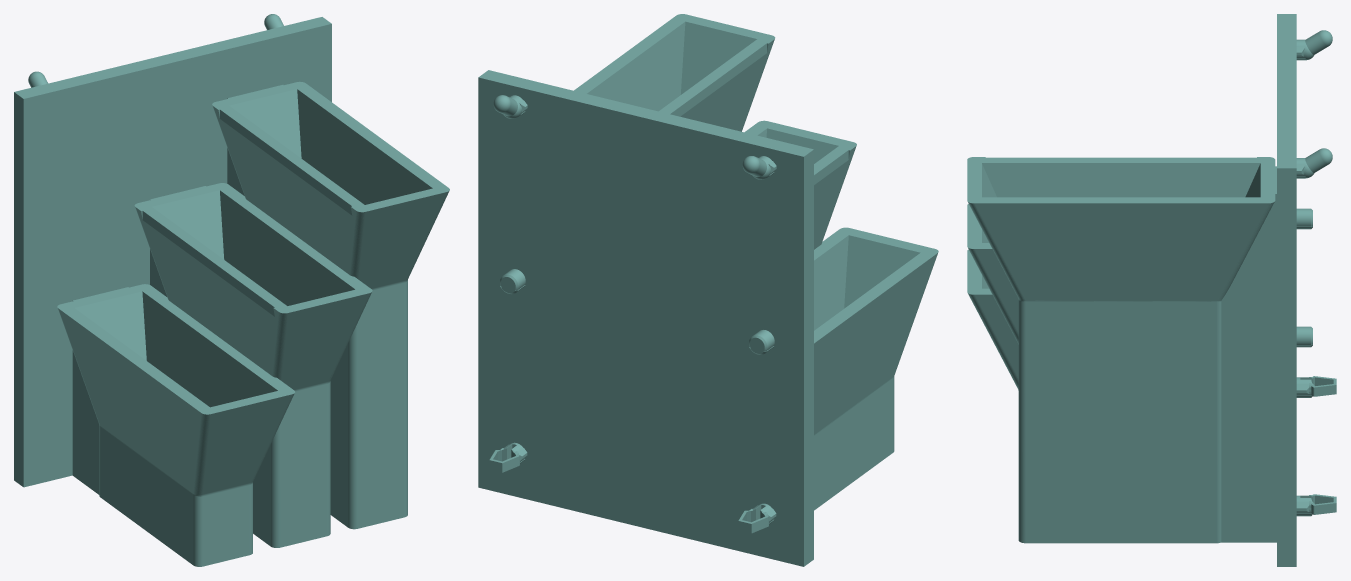
The model's file is part-cf01__v3__upright__fit-pf02c9-hoop5__installed.glb.
3 renders of one model, left to right at view 1: azimuth 30°, elevation 25°; view 2: azimuth 150°, elevation 25°; view 3: azimuth 270°, elevation 25°, orthographic. The views are drawn at different scales.
Visible parts, largest first — view 1: holder; view 2: holder; view 3: holder.
Part boxes in pixels (left/top/right/bottom): holder: left=14, top=14, right=449, bottom=566; holder: left=478, top=14, right=938, bottom=566; holder: left=967, top=14, right=1336, bottom=566.
Bounding box in the file's own units: 0.0996 × 0.1202 × 0.1008.
